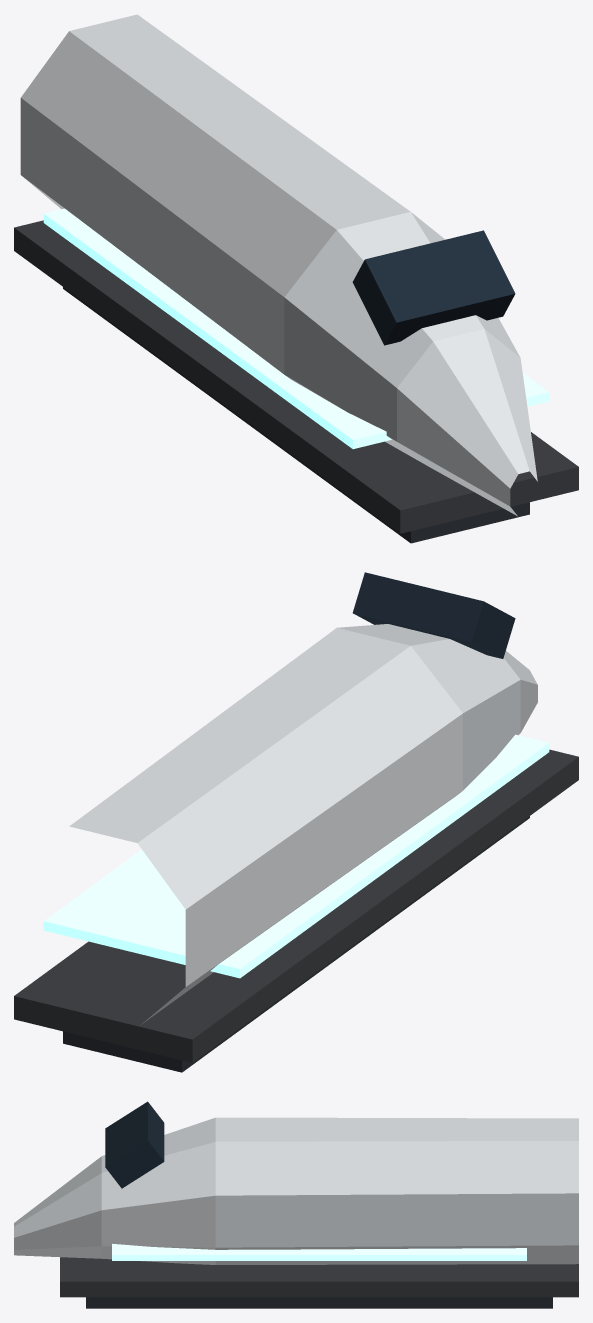
File: veh_ground_locomotive_a09.glb
3 renders of one model, top to bottom at view 1: azimuth 30°, elevation 25°; view 2: azimuth 150°, elevation 25°; view 3: azimuth 270°, elevation 25°, orthographic. The views are drawn at different scales.
Visible parts, largest first — view 1: body; view 2: body; view 3: body.
Boxes of the visible parts, x1=… form: body: x1=14, y1=14, x2=578, y2=543; body: x1=14, y1=572, x2=578, y2=1072; body: x1=14, y1=1101, x2=578, y2=1308.
Size of what is drawn, in the model's own units: 2.64 by 3.27 by 9.8.
